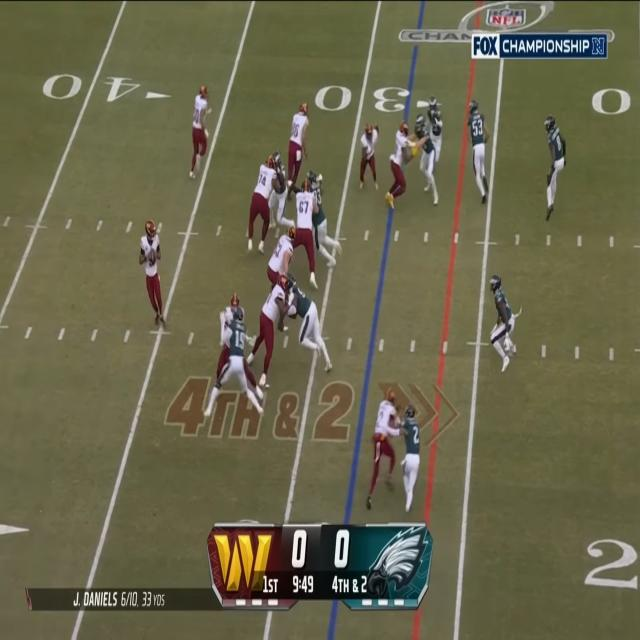Ball: (148, 249, 156, 264)
